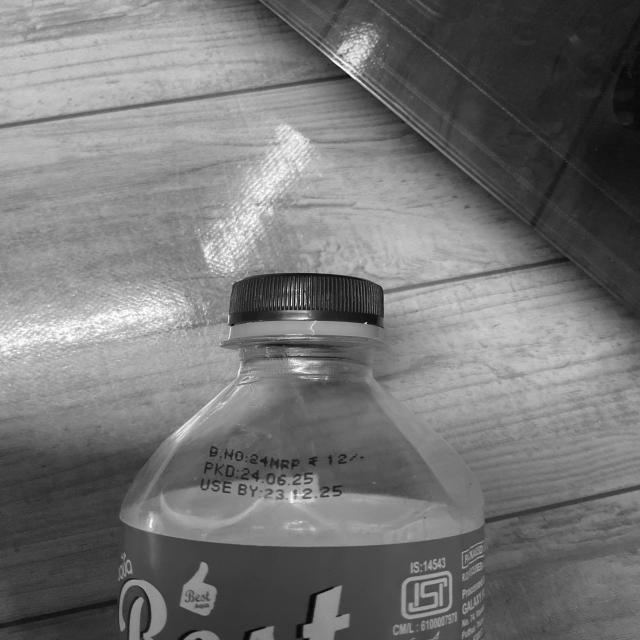Good-cap-Df0S: (224, 269, 392, 346)
